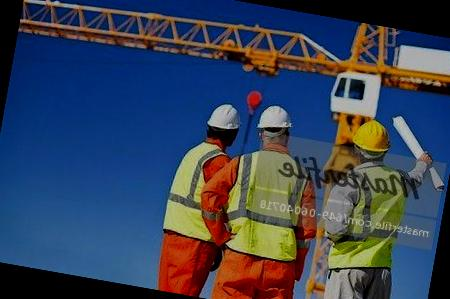helmet: (352, 118, 392, 152), (207, 99, 244, 132), (255, 102, 294, 133)
person: (149, 89, 249, 299)
